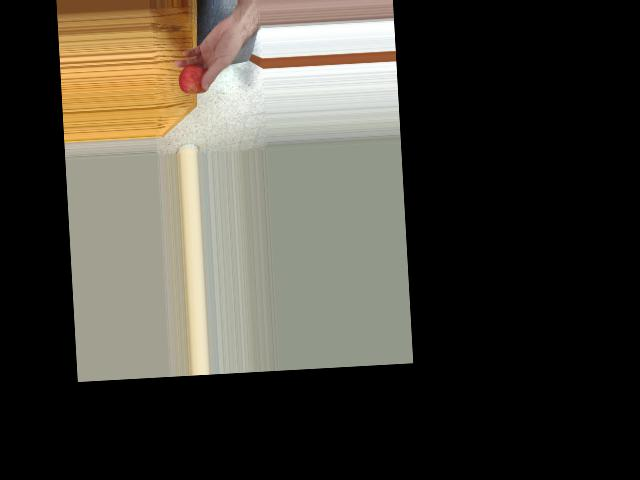apple: (178, 62, 212, 94)
